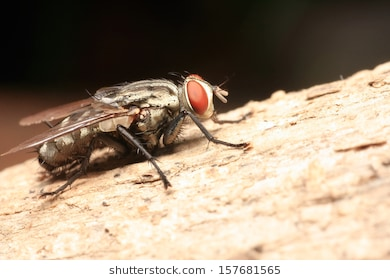green bottles fly: (7, 49, 250, 202)
